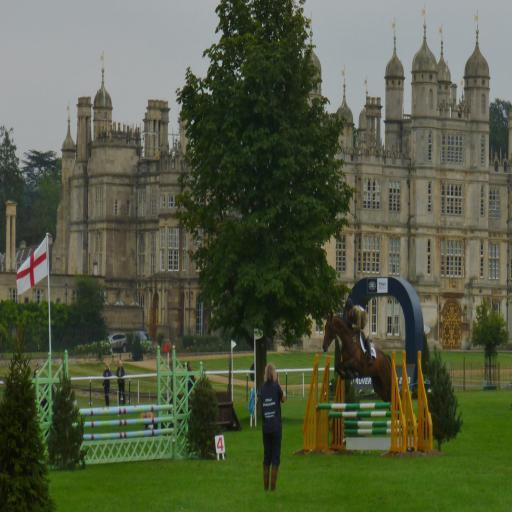horse: (322, 310, 393, 405)
